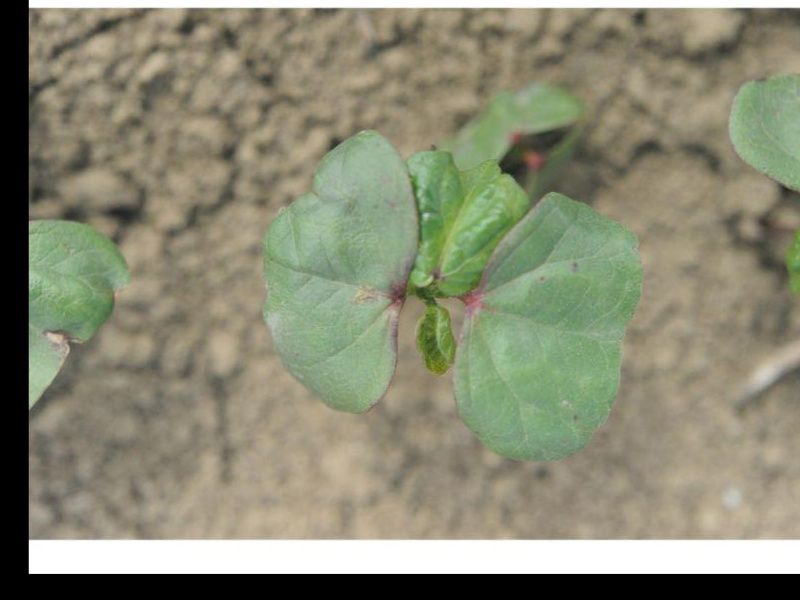cotton: (256, 122, 644, 468)
